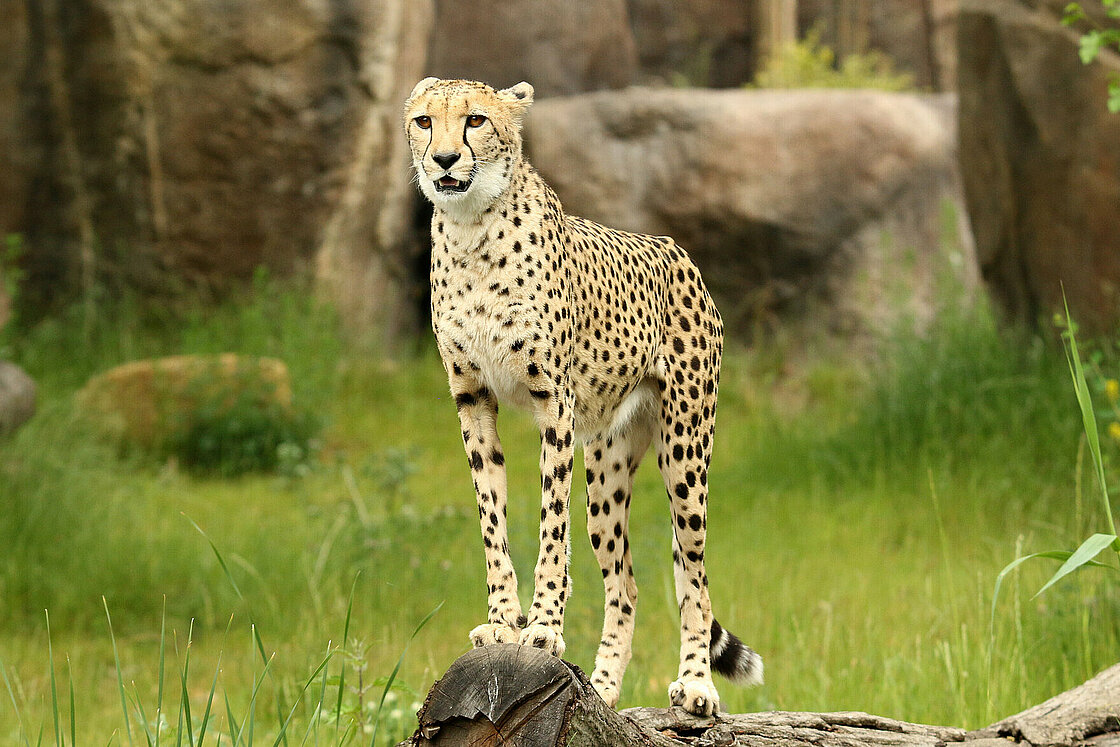cheetah: (397, 58, 544, 217)
